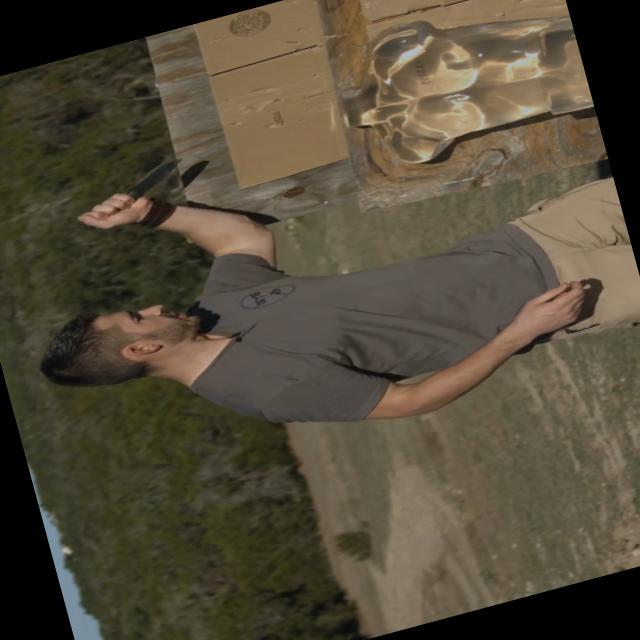knife: (67, 152, 200, 235)
